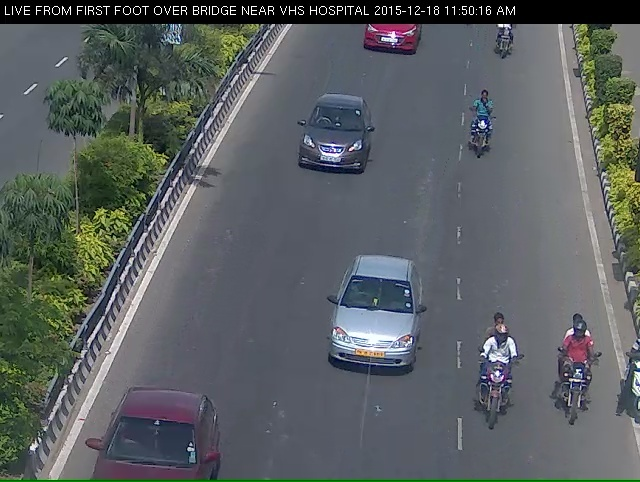Car: (336, 264, 418, 396), (297, 110, 371, 198), (357, 22, 427, 64)
Person: (472, 335, 521, 448), (563, 330, 593, 438), (469, 96, 496, 165), (493, 23, 518, 71)
